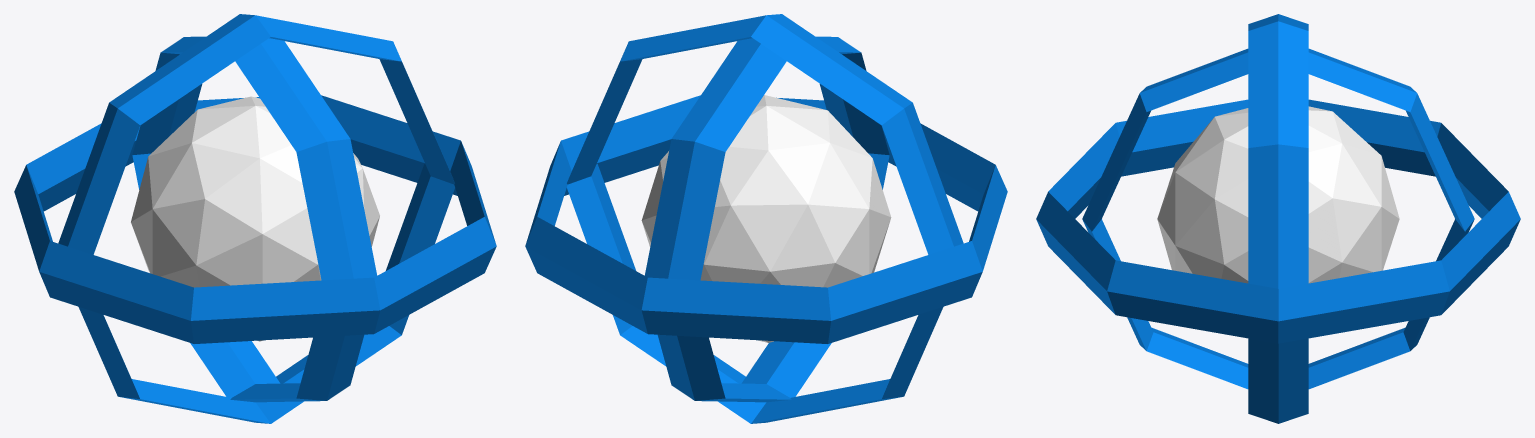
The model's file is resize.glb.
3 views of the same model, side by side, from view 1: azimuth 30°, elevation 25°; view 2: azimuth 150°, elevation 25°; view 3: azimuth 270°, elevation 25° (orthographic). The views are drawn at different scales.
Parts seen in each view (by area): view 1: resize, resize-ball, resize-inner, resize-inner-ring; view 2: resize, resize-ball, resize-inner, resize-inner-ring; view 3: resize, resize-ball, resize-inner, resize-inner-ring.
Part boxes in pixels (box(x1,y1,x2,y2)): resize: box(14, 95, 496, 343); resize-ball: box(131, 96, 379, 341); resize-inner: box(58, 14, 454, 423); resize-inner-ring: box(132, 36, 377, 402); resize: box(525, 95, 1007, 343); resize-ball: box(641, 95, 891, 342); resize-inner: box(567, 14, 963, 423); resize-inner-ring: box(644, 36, 889, 402); resize: box(1036, 99, 1520, 343); resize-ball: box(1157, 106, 1399, 283); resize-inner: box(1248, 14, 1308, 423); resize-inner-ring: box(1082, 48, 1474, 389).
Bounding box in the file's own units: 1 × 0.9 × 1.
1 material, 1 textured.
